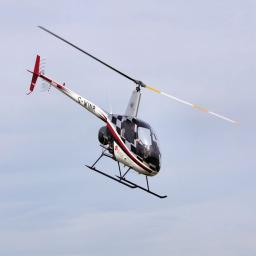helicopter: (26, 27, 243, 201)
